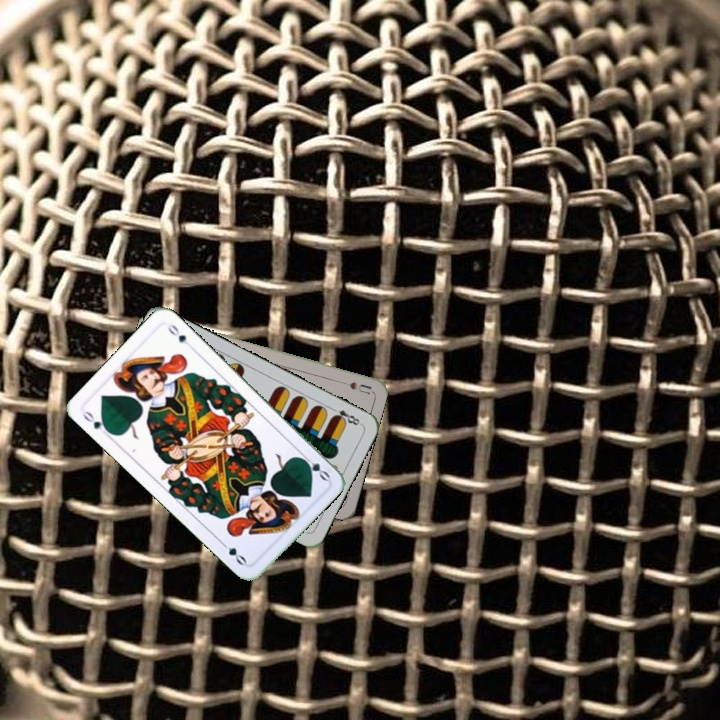E8: (326, 403, 364, 428)
GO: (296, 450, 332, 483), (78, 406, 113, 439)
SU: (345, 377, 373, 397)
